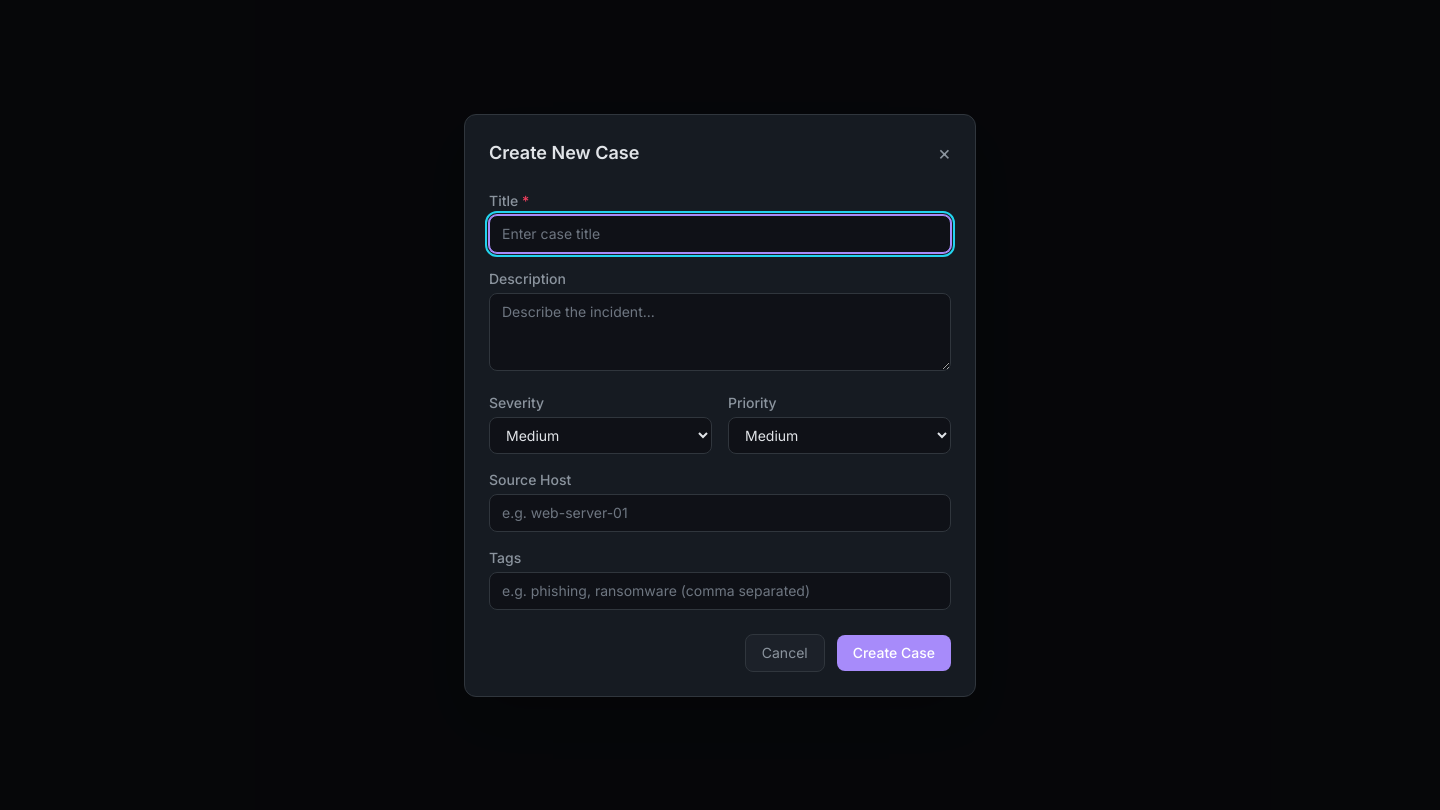
it: CreateCaseModal › disables submit button during submission
The width and height of the screenshot is (1440, 810).
In the field labelled "Title *": (720, 234) [489, 214, 951, 252], type "Test Case"
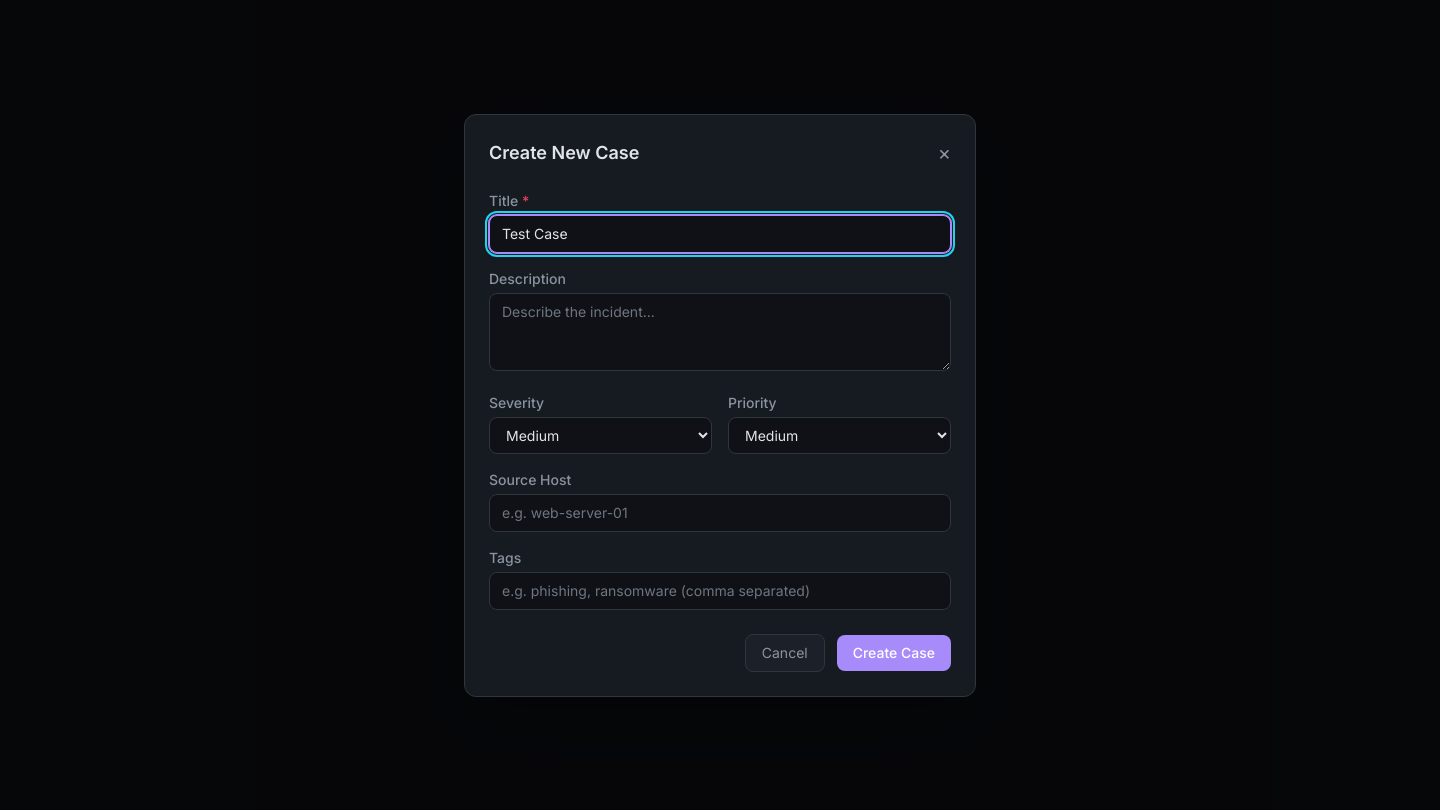
Click the button "Create Case": (894, 652) [837, 634, 951, 670]
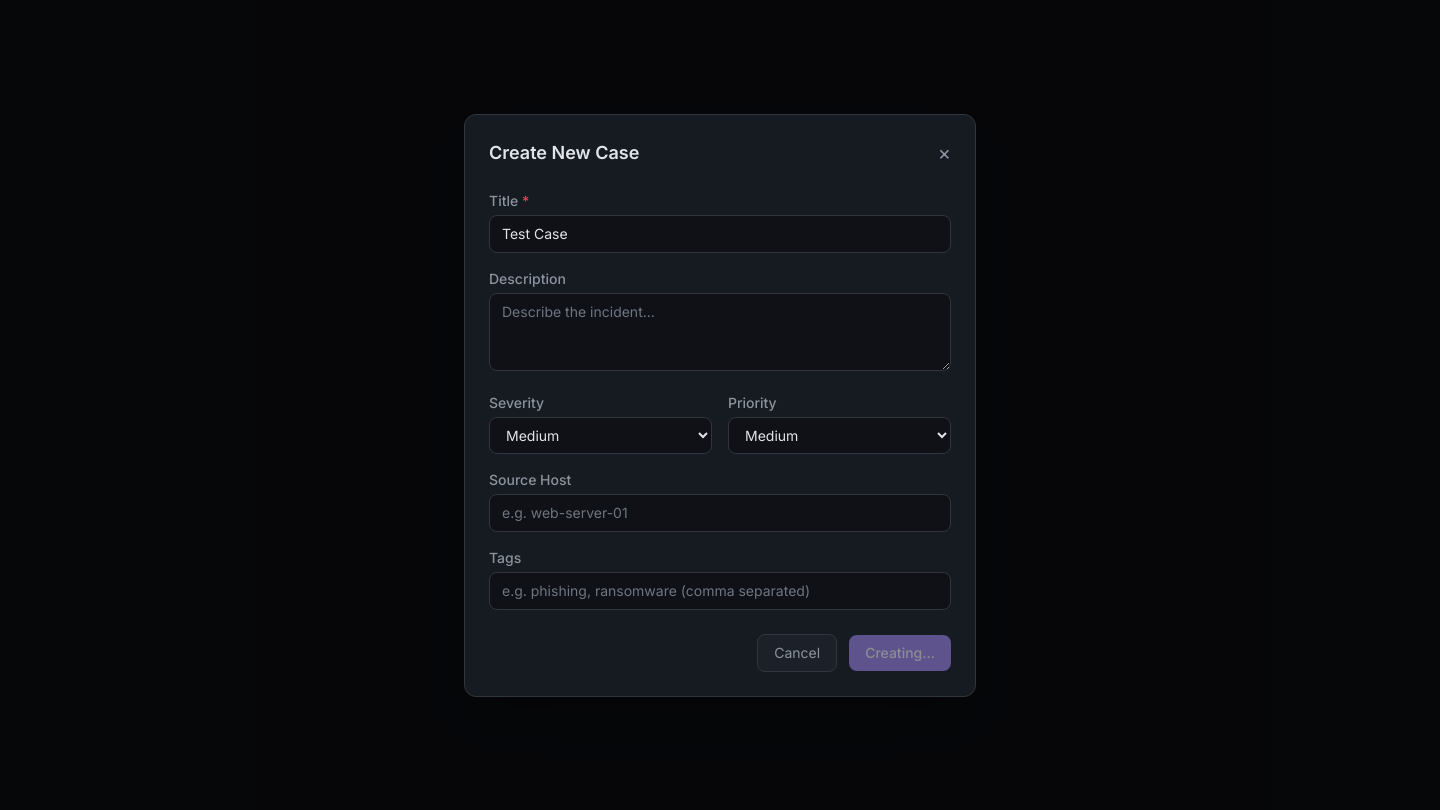
Expected: the button "Creating..." is shown, [849, 634, 951, 670]
